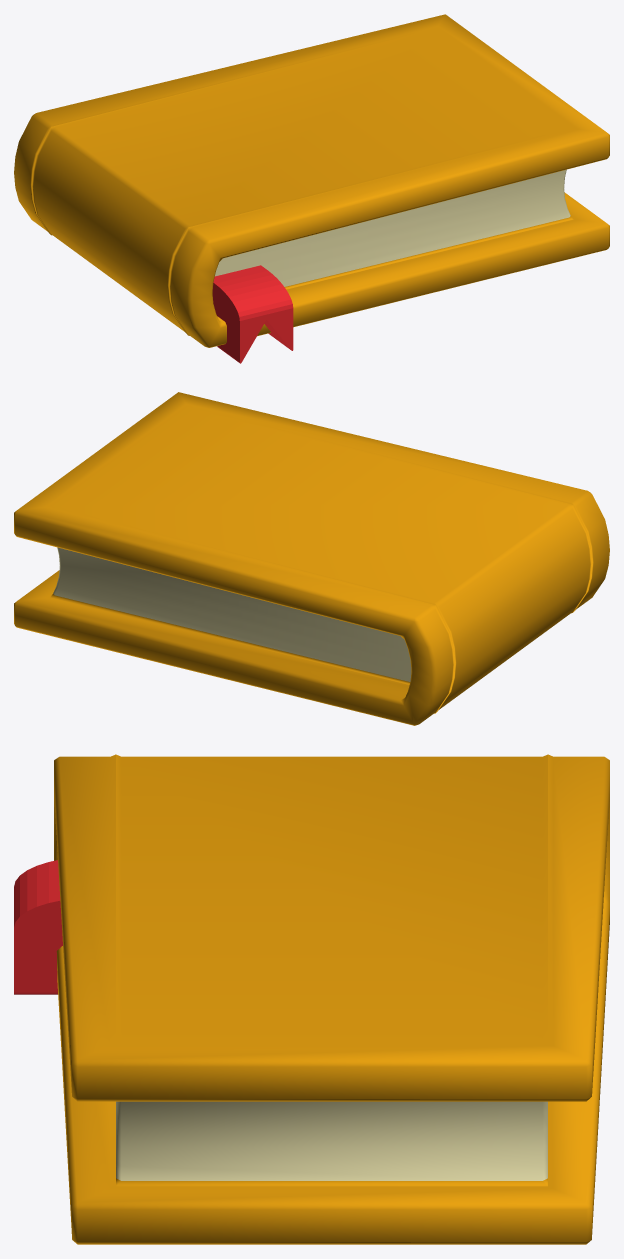
File: Book_1.fbx
3 renders of one model, top to bottom at view 1: azimuth 30°, elevation 25°; view 2: azimuth 150°, elevation 25°; view 3: azimuth 270°, elevation 25°, orthographic. The views are drawn at different scales.
Parts seen in each view (by area): view 1: Book, Bookmark; view 2: Book; view 3: Book, Bookmark.
Boxes of the visible parts, bbox=[...] form: Book: bbox=[14, 14, 609, 347]; Bookmark: bbox=[212, 265, 293, 363]; Book: bbox=[14, 392, 609, 725]; Book: bbox=[54, 754, 609, 1244]; Bookmark: bbox=[14, 860, 62, 994].
Size of the model in its own units: 21.83 by 5.94 by 16.7.
